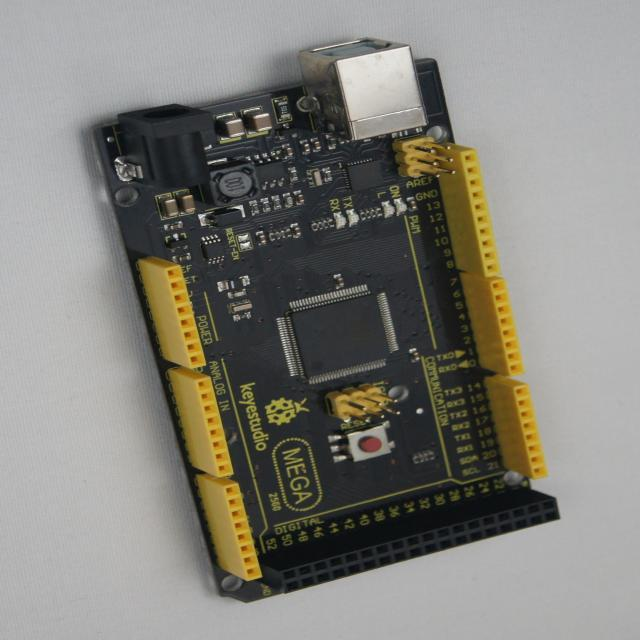Arduino Mega 2560 -Yellow-: (96, 40, 559, 602)
